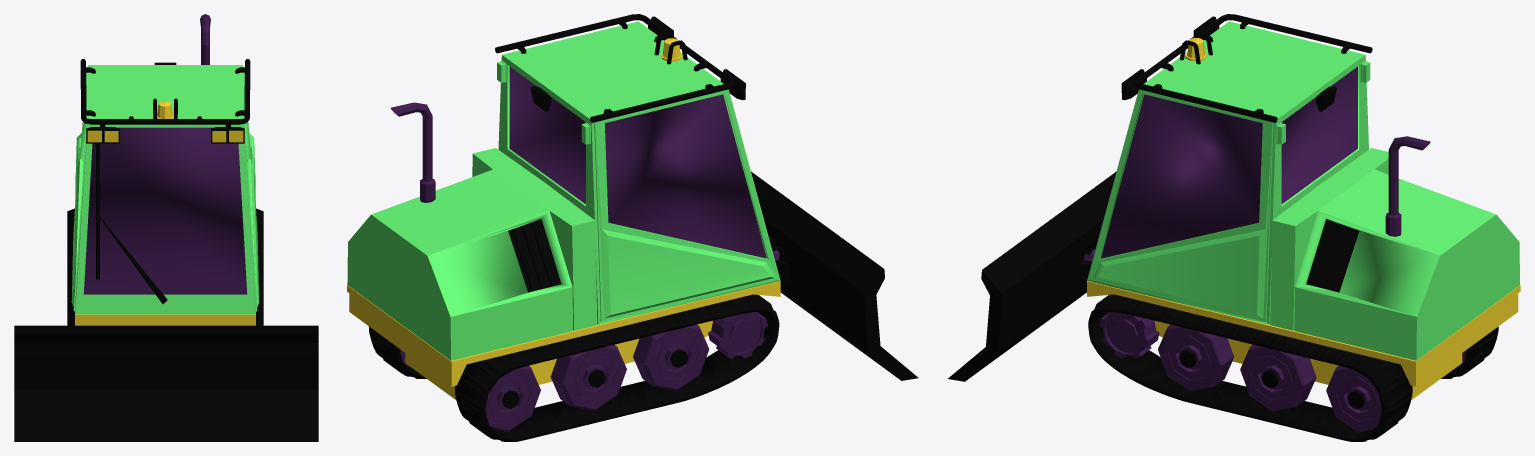
File: Toy106.fbx
3 renders of one model, left to right at view 1: azimuth 30°, elevation 25°; view 2: azimuth 150°, elevation 25°; view 3: azimuth 270°, elevation 25°, orthographic. The views are drawn at different scales.
Parts seen in each view (by area): view 1: Toy106; view 2: Toy106; view 3: Toy106.
Part boxes in pixels (bbox=[...]): Toy106: bbox=[14, 14, 318, 441]; Toy106: bbox=[347, 14, 918, 441]; Toy106: bbox=[948, 14, 1520, 441].
Size of the model in its own units: 0.2178 by 0.1547 by 0.2541.
